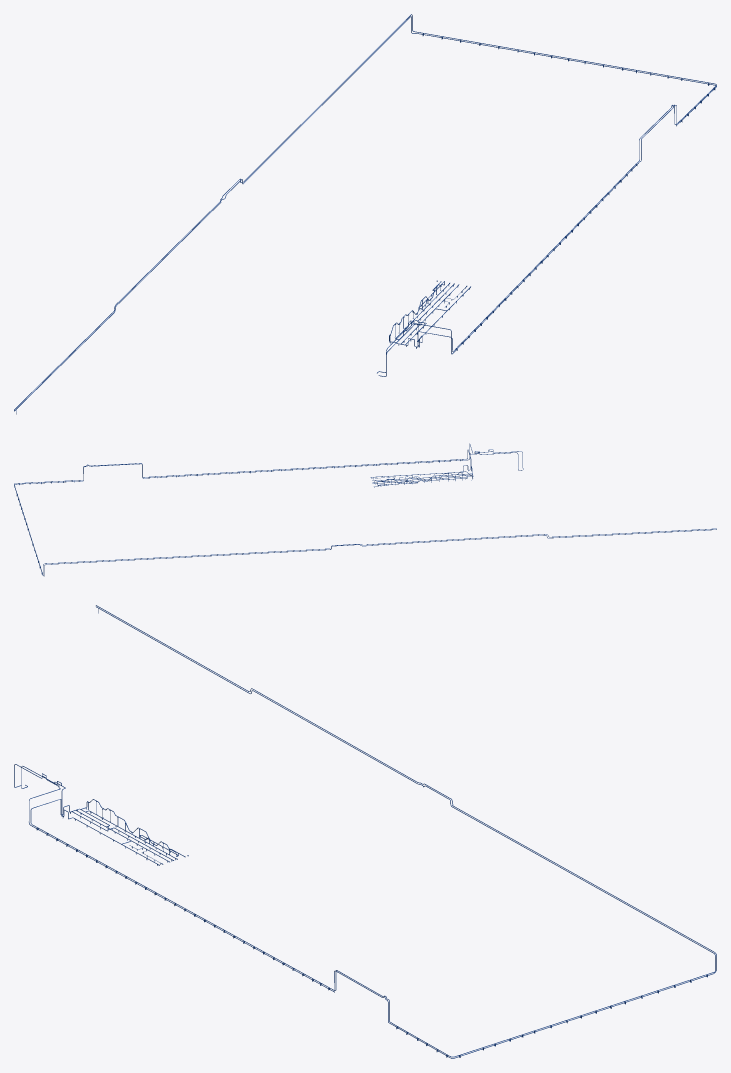
3 renders of one model, top to bottom at view 1: azimuth 30°, elevation 25°; view 2: azimuth 150°, elevation 25°; view 3: azimuth 270°, elevation 25°, orthographic. The views are drawn at different scales.
Visible parts, largest first — view 1: 管道70, 管道75; view 2: 管道75, 管道70, 管道73, 管道77, 管道68, 管道72; view 3: 管道75, 管道70.
Boxes of the visible parts, left/top/right/bottom form: 管道70: left=241, top=16, right=716, bottom=183; 管道75: left=239, top=14, right=716, bottom=182; 管道75: left=14, top=465, right=333, bottom=574; 管道70: left=14, top=466, right=333, bottom=576; 管道73: left=91, top=459, right=464, bottom=477; 管道77: left=335, top=528, right=716, bottom=546; 管道68: left=88, top=458, right=469, bottom=478; 管道72: left=335, top=529, right=714, bottom=546; 管道75: left=385, top=798, right=716, bottom=1057; 管道70: left=386, top=798, right=715, bottom=1058.
Size of the model in its own units: 358 by 12.22 by 245.
